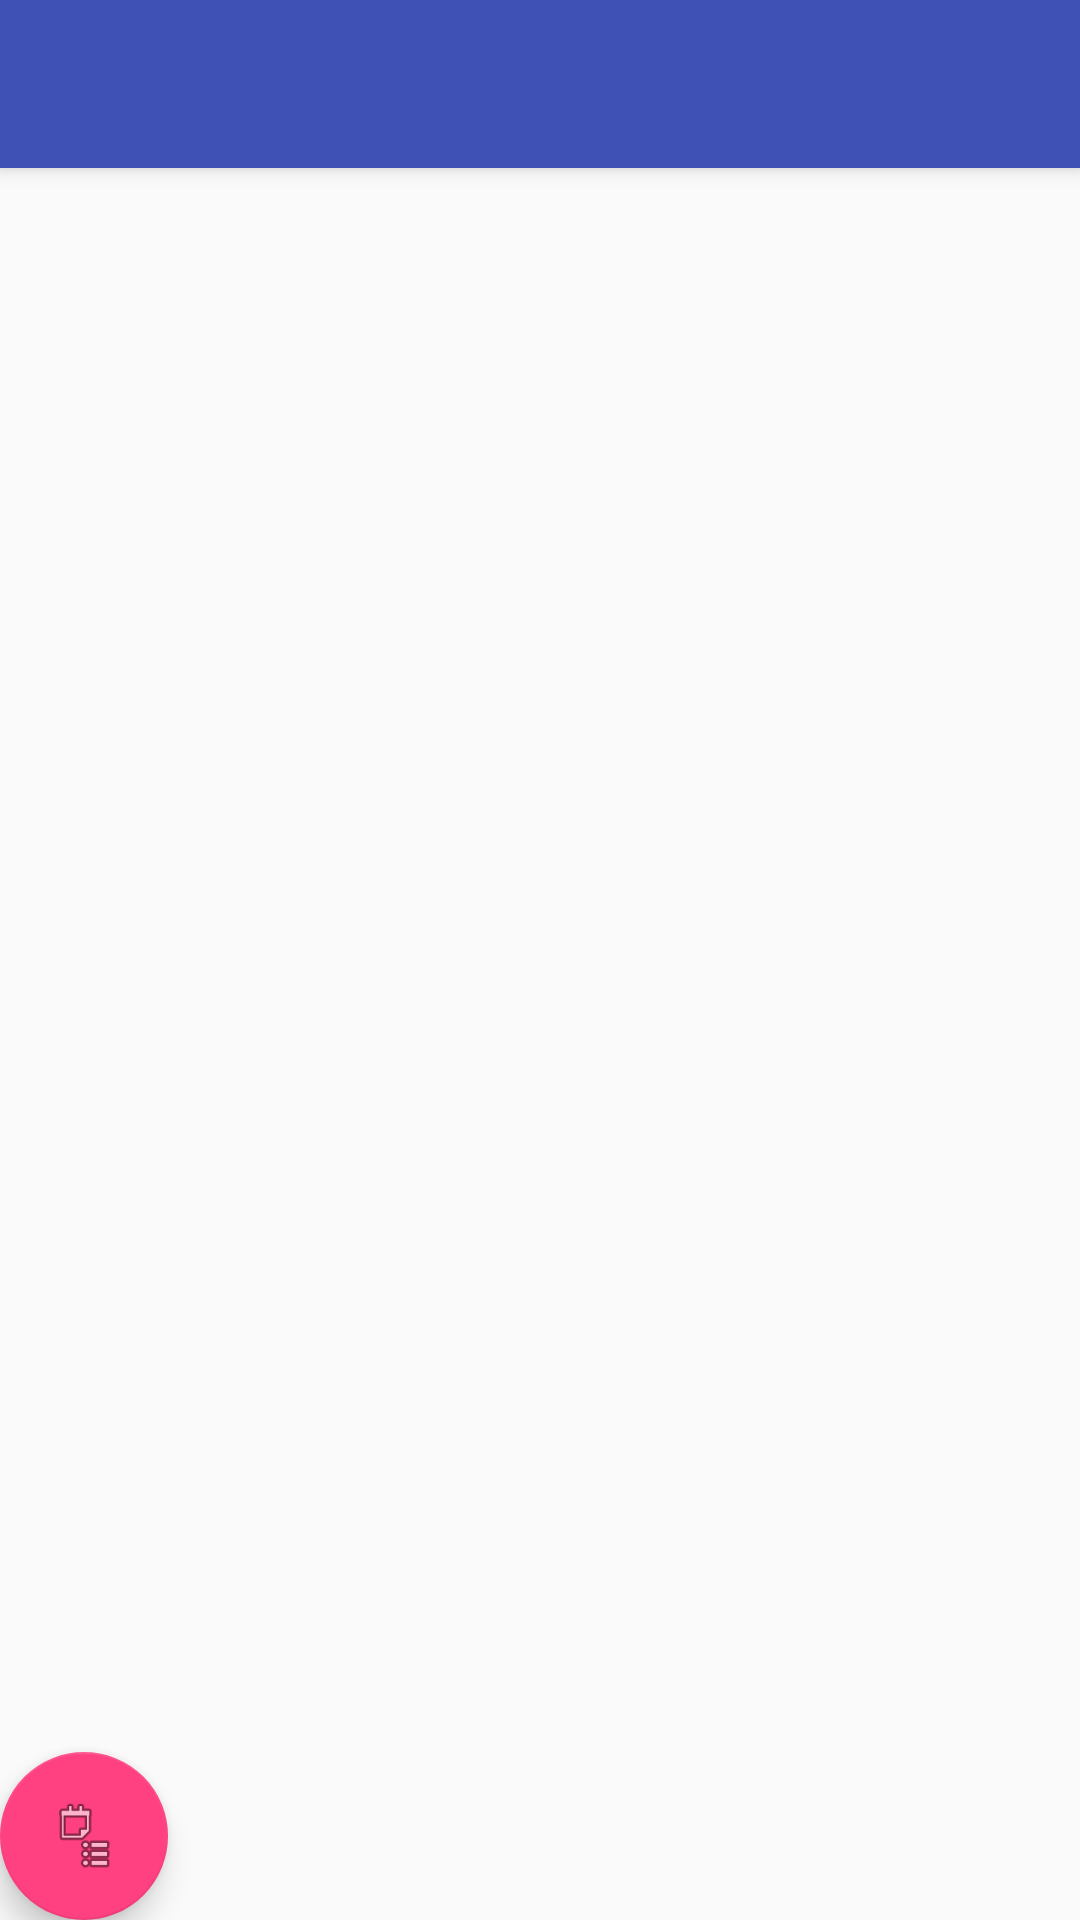

Where icons sit on this 1080w x 1920h app screen, as (x1, y1, x2, y2):
agenda: (0, 1752, 168, 1920)
